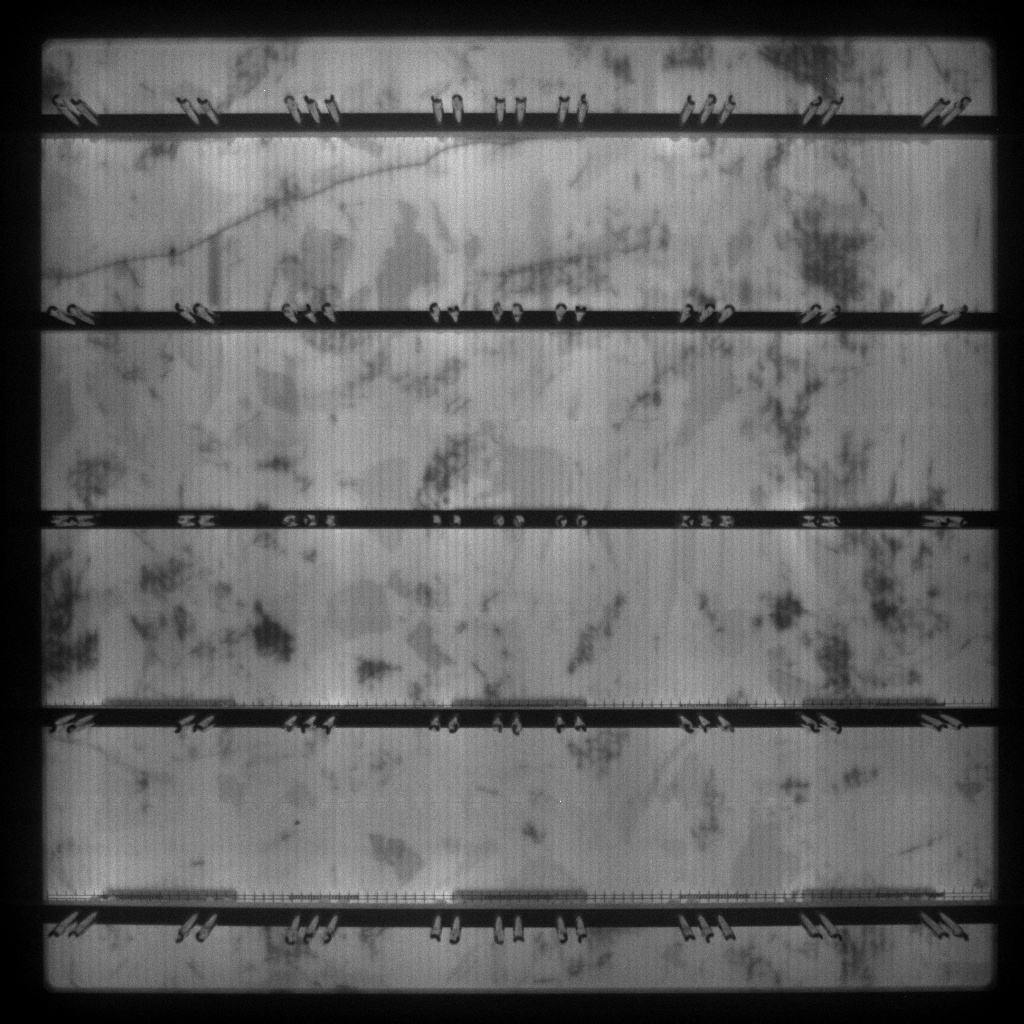crack: (45, 140, 531, 285)
